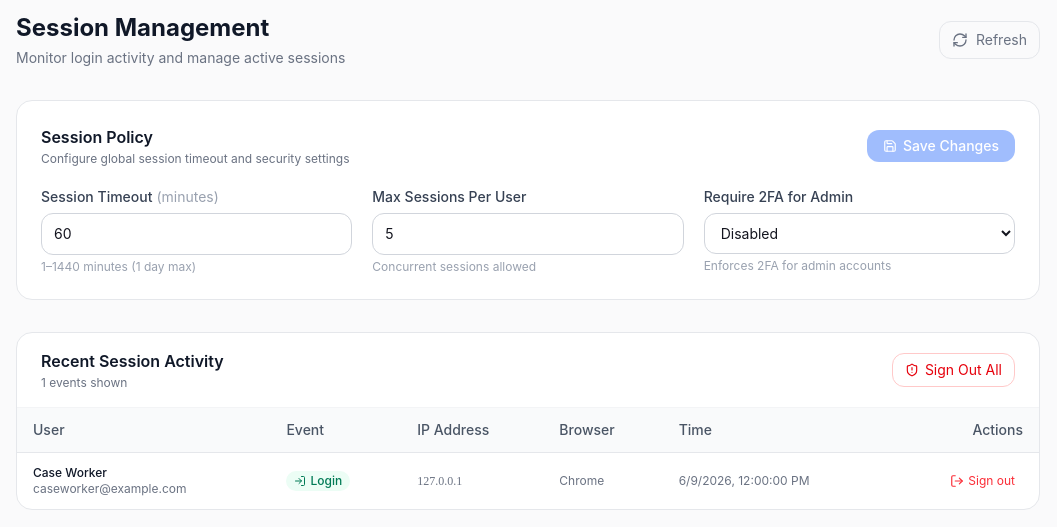
AdminSessionsPage › loads session policy and saves changed settings
Expected: the heading "Session Management" is shown, [16,13,269,42]
Expected: the text "Case Worker" is shown, [33,465,107,480]
Replace the text in the number field showing "60" below "(minutes)" with "90": (197, 234) [41,213,352,255]
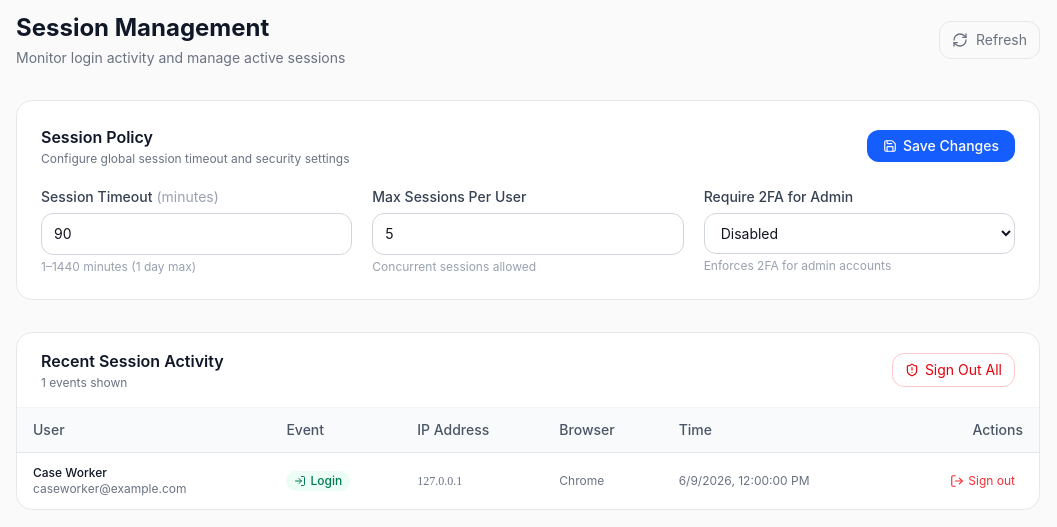
Click the button "Save Changes": (941, 146) [867,130,1015,162]
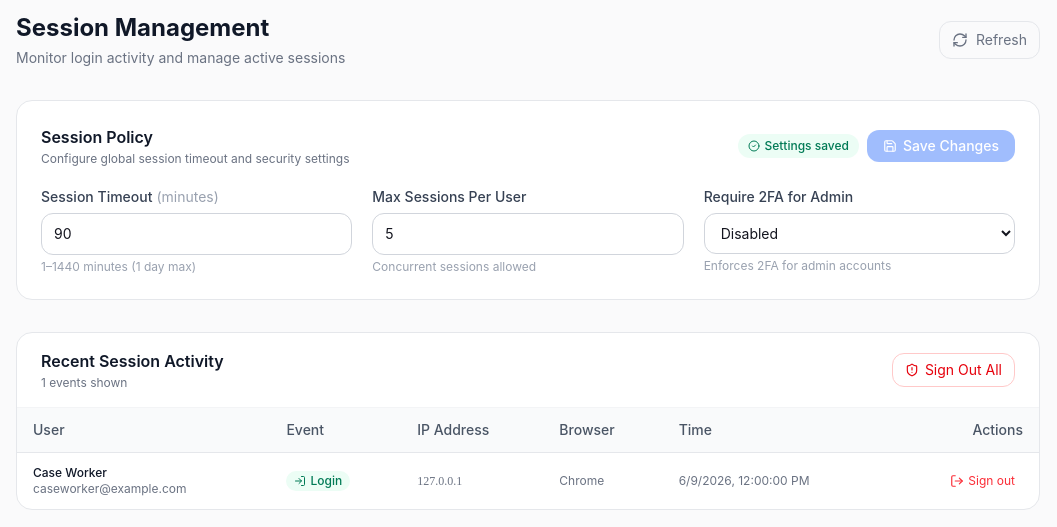
Now the text "Settings saved" is shown, box [738,134,859,158]
